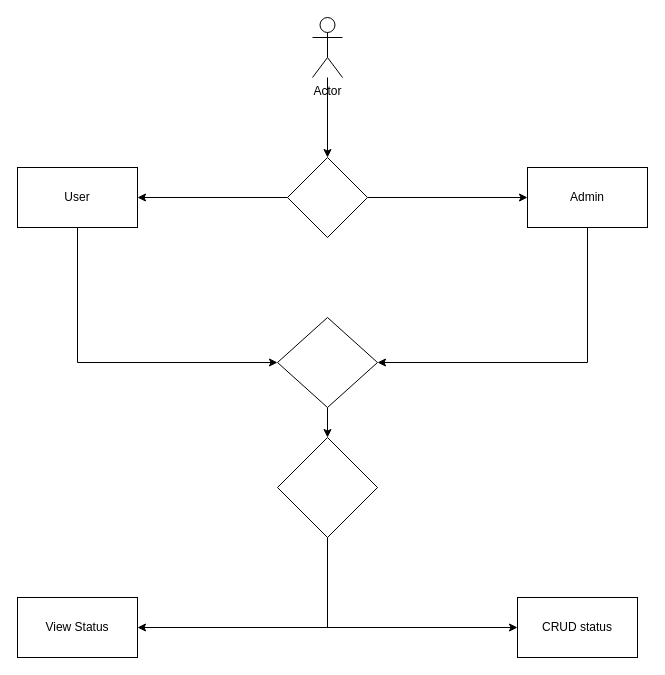
Some shapes in this 665 by 675 pixel diagram are drawn without their labels. The shapes that lost their labels are listed below. From the top down, each one's centre as x and y in pixels, then its label:
point 327,197: Login
point 327,362: Check license
point 327,487: Check permissions
